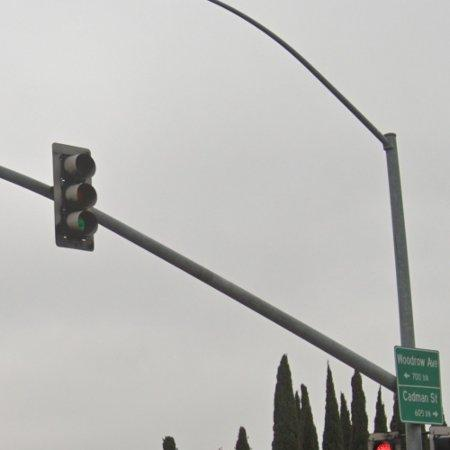traffic lights: (50, 139, 100, 253)
